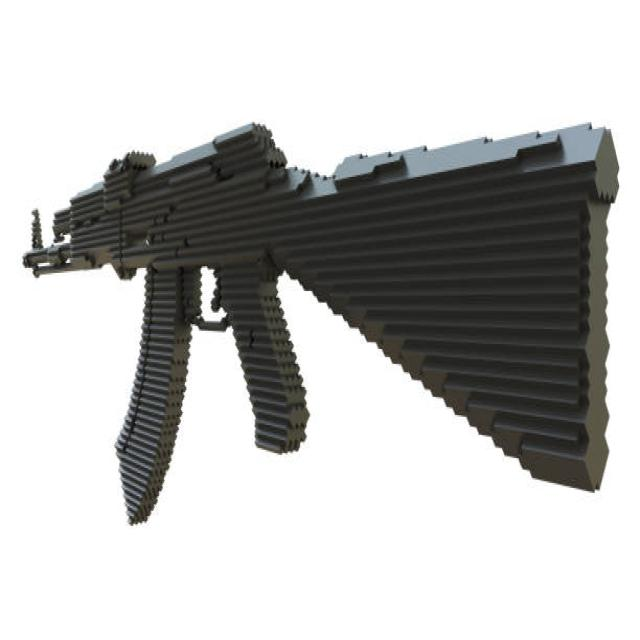rifle: (19, 76, 623, 542)
